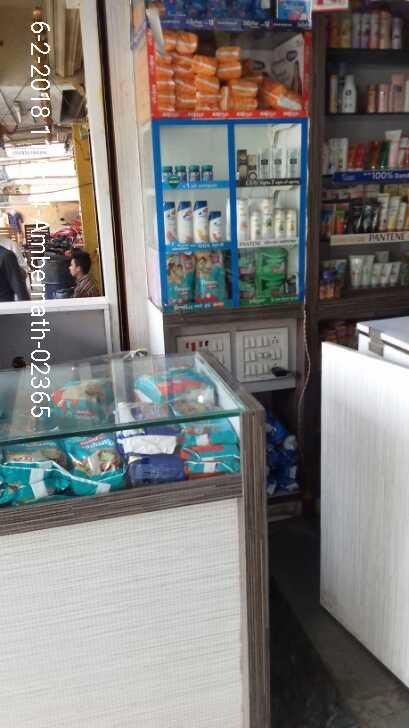beauty: (175, 201, 195, 247), (192, 199, 208, 245), (208, 207, 227, 243), (161, 203, 176, 248), (260, 195, 274, 237), (236, 195, 248, 239), (269, 148, 284, 180), (286, 215, 301, 244), (289, 149, 301, 177), (259, 146, 269, 179), (248, 209, 259, 238), (275, 209, 284, 235)
pharmacy: (166, 250, 195, 308), (197, 251, 230, 297), (257, 270, 290, 299), (255, 251, 289, 270), (199, 162, 216, 187), (173, 164, 186, 186), (191, 165, 204, 180), (161, 166, 169, 179)
